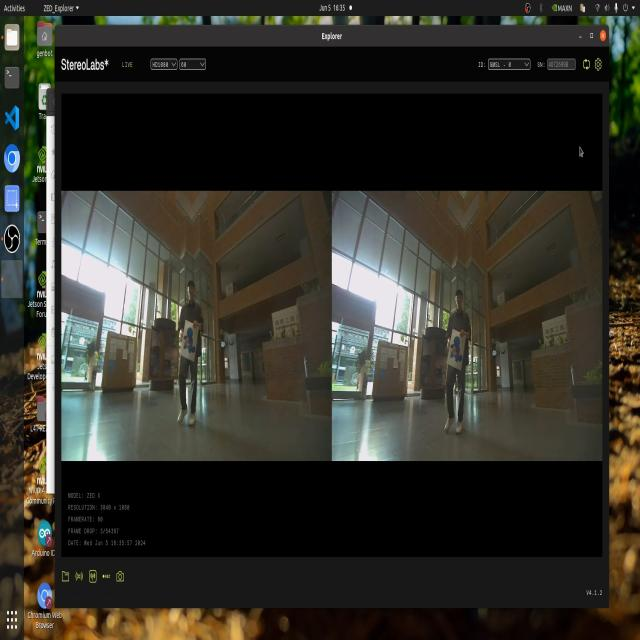blue: (178, 320, 202, 361), (451, 331, 468, 369)
